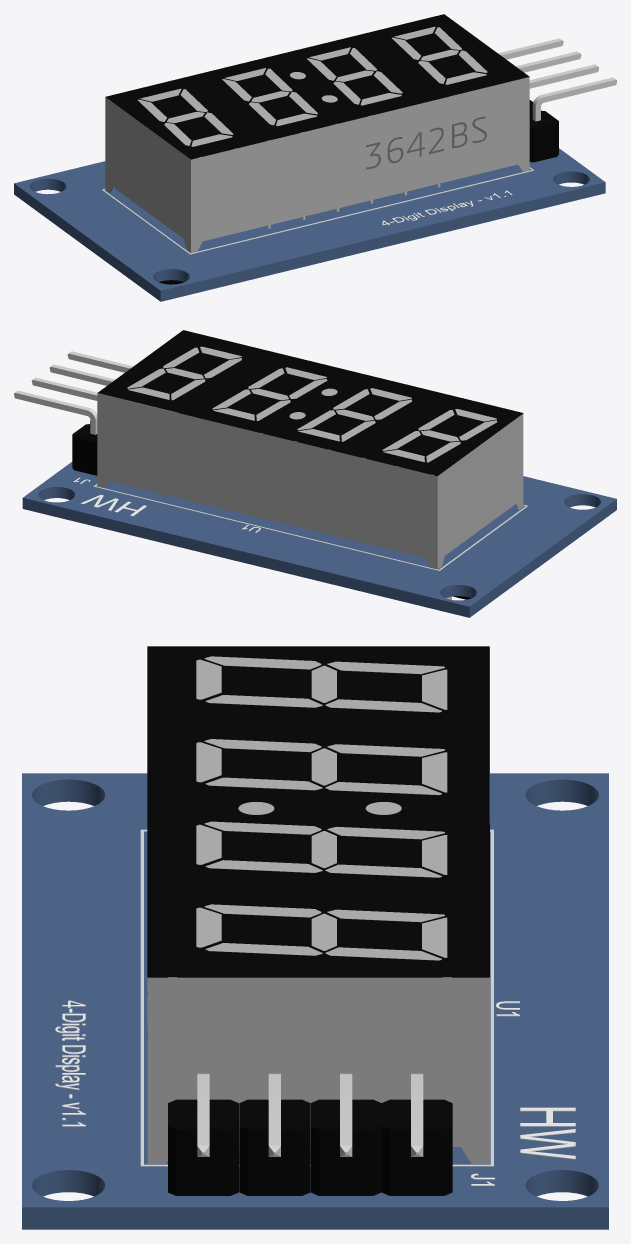
The model's file is modulo_display_7_segmentos_4_digitos.original.glb.
3 views of the same model, one above another, from view 1: azimuth 30°, elevation 25°; view 2: azimuth 150°, elevation 25°; view 3: azimuth 270°, elevation 25° (orthographic). The views are drawn at different scales.
Visible parts, largest first — view 1: Protoboard_003-material, azul_placa-material, PlasticoPreto_005-material, metal-material, plastico_preto-material, chip_marron_001-material, letras_001-material, letras-material; view 2: Protoboard_003-material, azul_placa-material, PlasticoPreto_005-material, metal-material, plastico_preto-material, letras_001-material, letras-material; view 3: azul_placa-material, PlasticoPreto_005-material, Protoboard_003-material, plastico_preto-material, metal-material, letras-material, letras_001-material.
Part boxes in pixels (box(x1,y1,x2,y2)): Protoboard_003-material: box(105, 26, 529, 252); azul_placa-material: box(14, 148, 605, 301); PlasticoPreto_005-material: box(105, 14, 529, 190); metal-material: box(498, 38, 616, 121); plastico_preto-material: box(529, 100, 558, 162); chip_marron_001-material: box(366, 116, 486, 169); letras_001-material: box(102, 167, 534, 254); letras-material: box(382, 190, 512, 225); Protoboard_003-material: box(97, 346, 523, 569); azul_placa-material: box(22, 462, 616, 617); PlasticoPreto_005-material: box(98, 330, 523, 505); metal-material: box(14, 351, 451, 599); plastico_preto-material: box(72, 421, 97, 475); letras_001-material: box(93, 484, 527, 570); letras-material: box(73, 477, 260, 532); azul_placa-material: box(22, 773, 608, 1229); PlasticoPreto_005-material: box(147, 646, 489, 977); Protoboard_003-material: box(147, 647, 489, 1163); plastico_preto-material: box(168, 1099, 452, 1195); metal-material: box(197, 1073, 423, 1156); letras-material: box(55, 1000, 575, 1185); letras_001-material: box(140, 829, 493, 1166).
Bounding box in the file's own units: 0.0473 × 0.0115 × 0.024.
